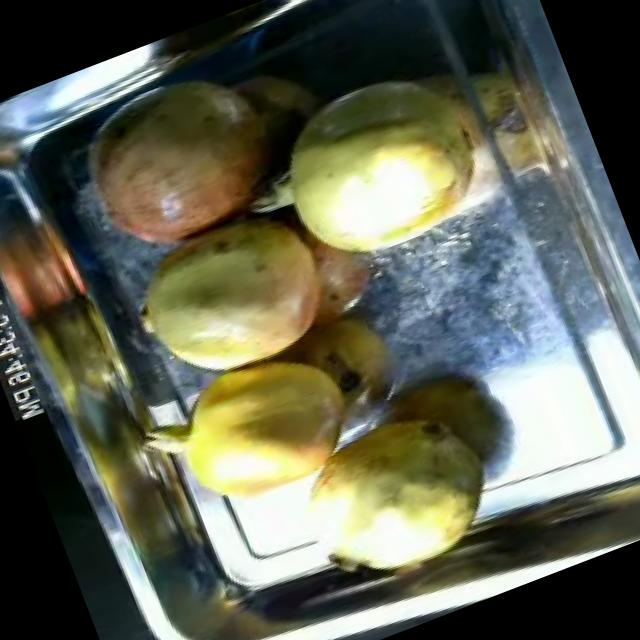fruit: (236, 38, 526, 304), (44, 35, 324, 288), (91, 178, 359, 411), (272, 383, 522, 608), (146, 320, 386, 528)
